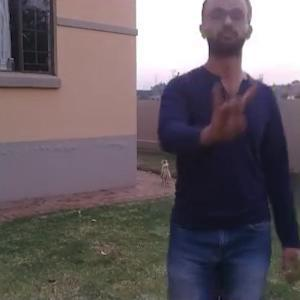takeoff-hand: (205, 72, 259, 142)
